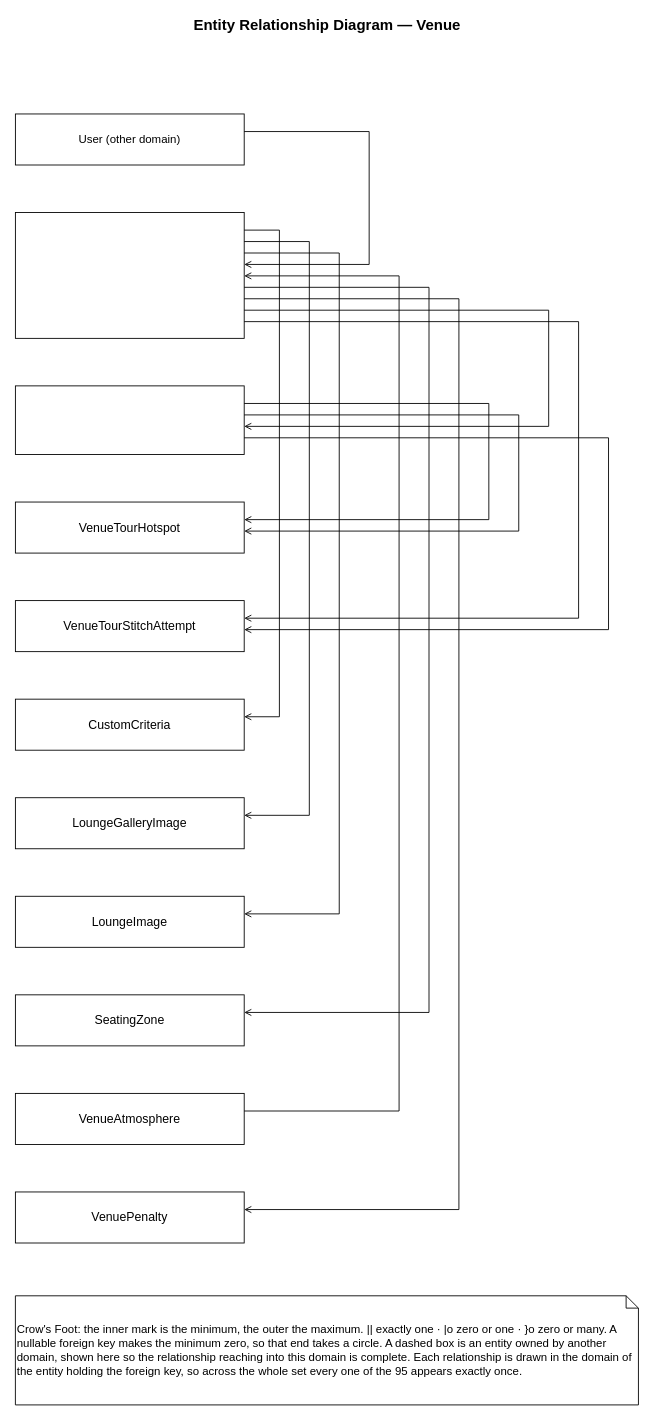
Some shapes in this 654 by 1420 pixel diagram are drawn without their labels. The centre of each missing label's shape, as x and y in pixels:
MusicLounge: [129,275]
VenueTourScene: [129,420]
